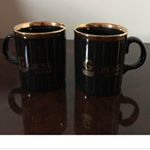cups: (70, 19, 148, 82), (1, 18, 68, 82)
